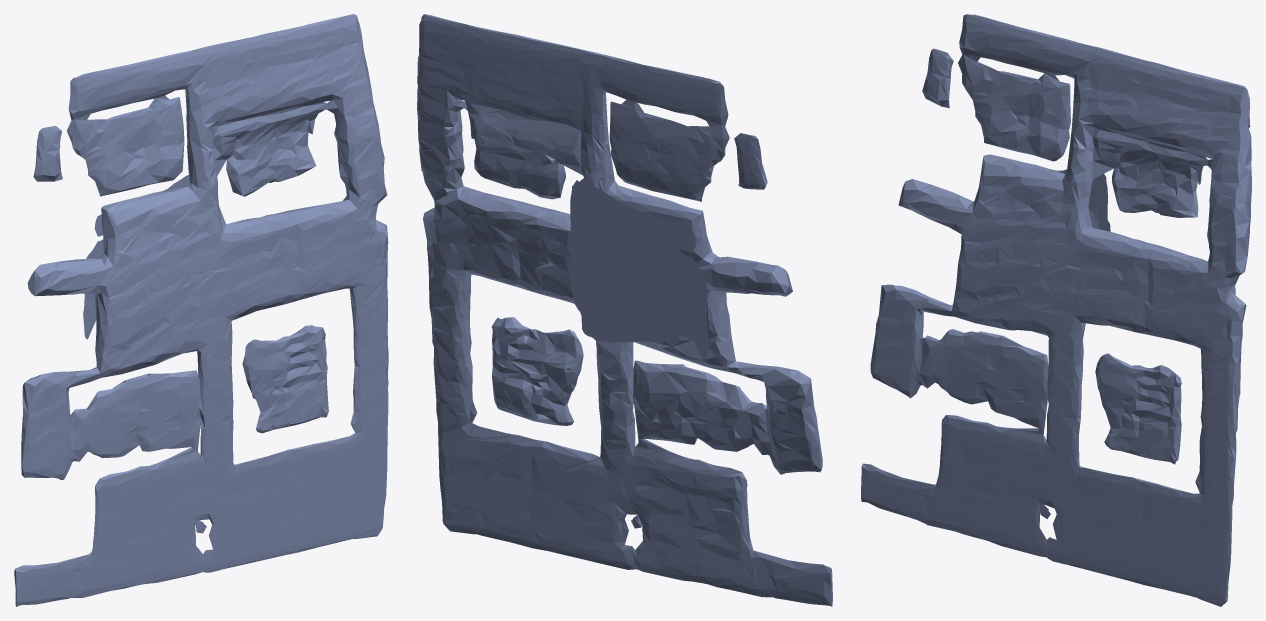
File: improved.glb
3 views of the same model, side by side, from view 1: azimuth 30°, elevation 25°; view 2: azimuth 150°, elevation 25°; view 3: azimuth 330°, elevation 25° (orthographic). The views are drawn at different scales.
Visible parts, largest first — view 1: world; view 2: world; view 3: world.
Part boxes in pixels (bbox=[...]): world: bbox=[14, 14, 388, 606]; world: bbox=[417, 14, 832, 606]; world: bbox=[861, 14, 1251, 606].
Size of the model in its own units: 0.5 by 0.6455 by 0.0593.
